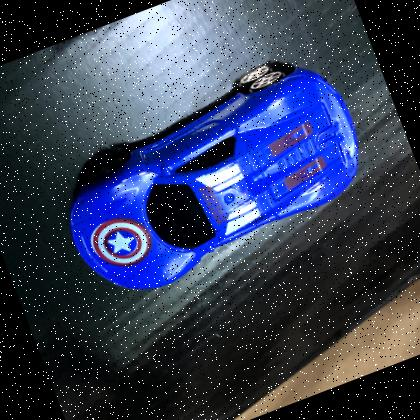Car: (68, 65, 359, 289)
